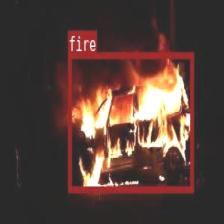fire: (68, 52, 193, 191)
